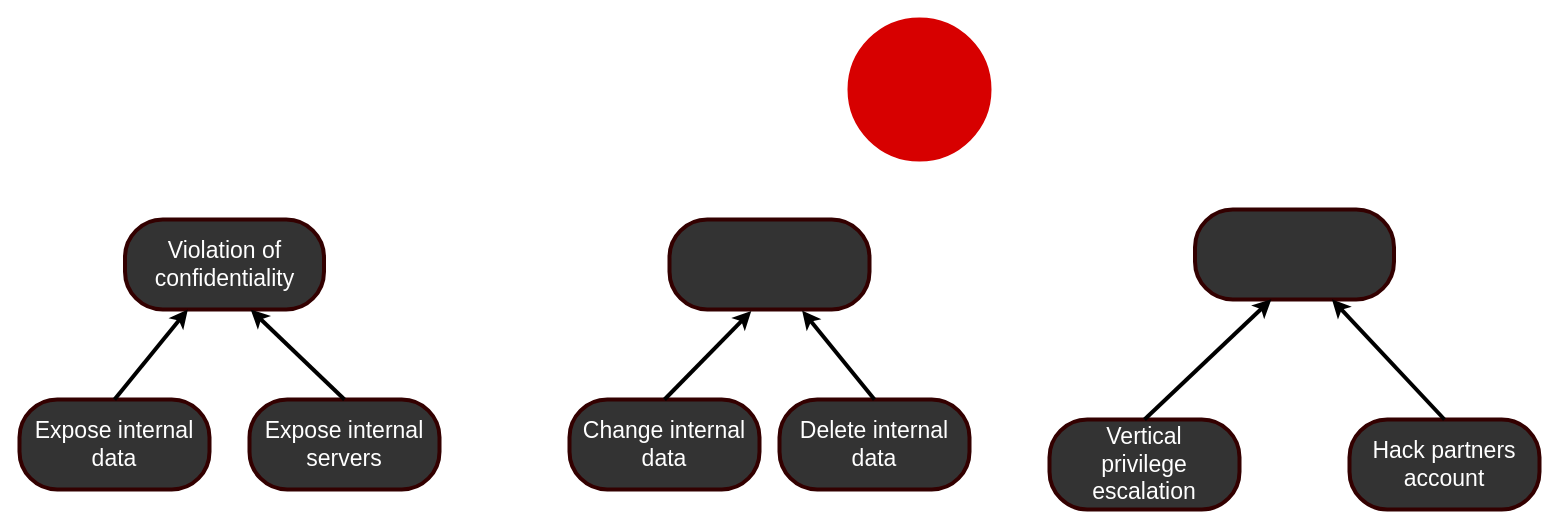
Some shapes in this 1558 by 528 pixel diagram are drawn without their labels. The centre of each missing label's shape, as x and y in pixels:
"Insider Attacker" goes at [919,89].
"Violation of accountability" goes at [1294,254].
"Violation of integrity" goes at [769,264].
